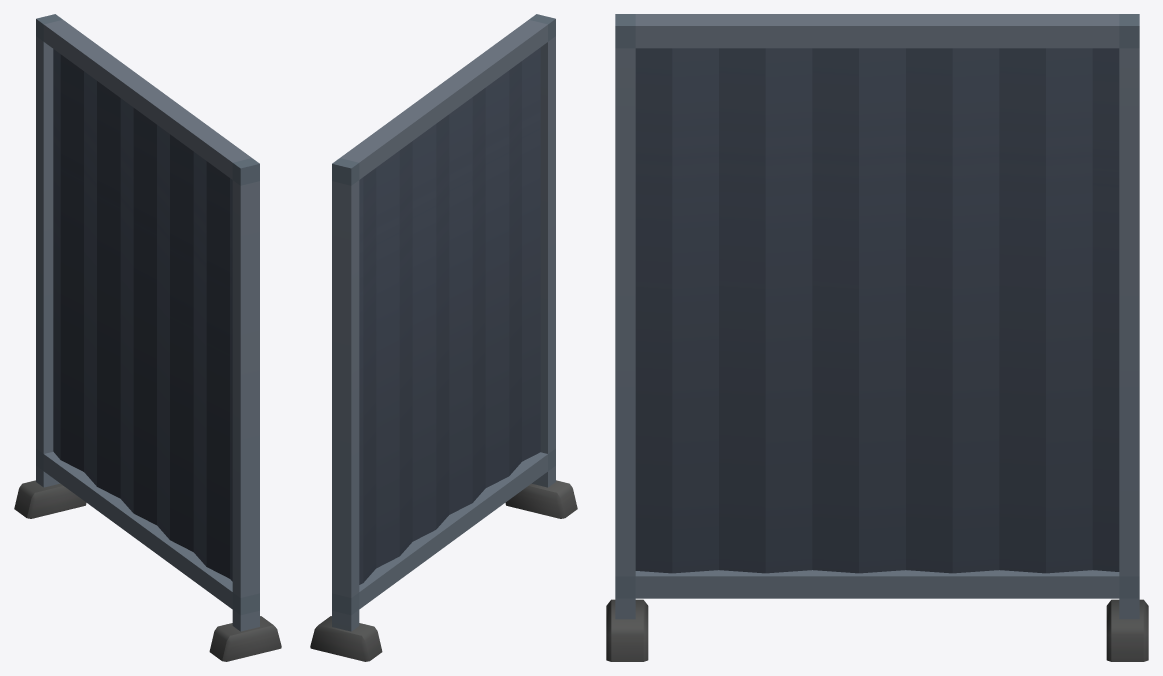
The model's file is Barier_2_4.glb.
3 views of the same model, side by side, from view 1: azimuth 30°, elevation 25°; view 2: azimuth 150°, elevation 25°; view 3: azimuth 270°, elevation 25° (orthographic). The views are drawn at different scales.
Parts seen in each view (by area): view 1: Barier_2_4; view 2: Barier_2_4; view 3: Barier_2_4.
Part boxes in pixels (x1=…): Barier_2_4: x1=14, y1=14, x2=281, y2=661; Barier_2_4: x1=310, y1=14, x2=577, y2=661; Barier_2_4: x1=606, y1=14, x2=1148, y2=661.
Size of the model in its own units: 0.3435 by 2.68 by 2.11.
2 materials, 2 textured.
